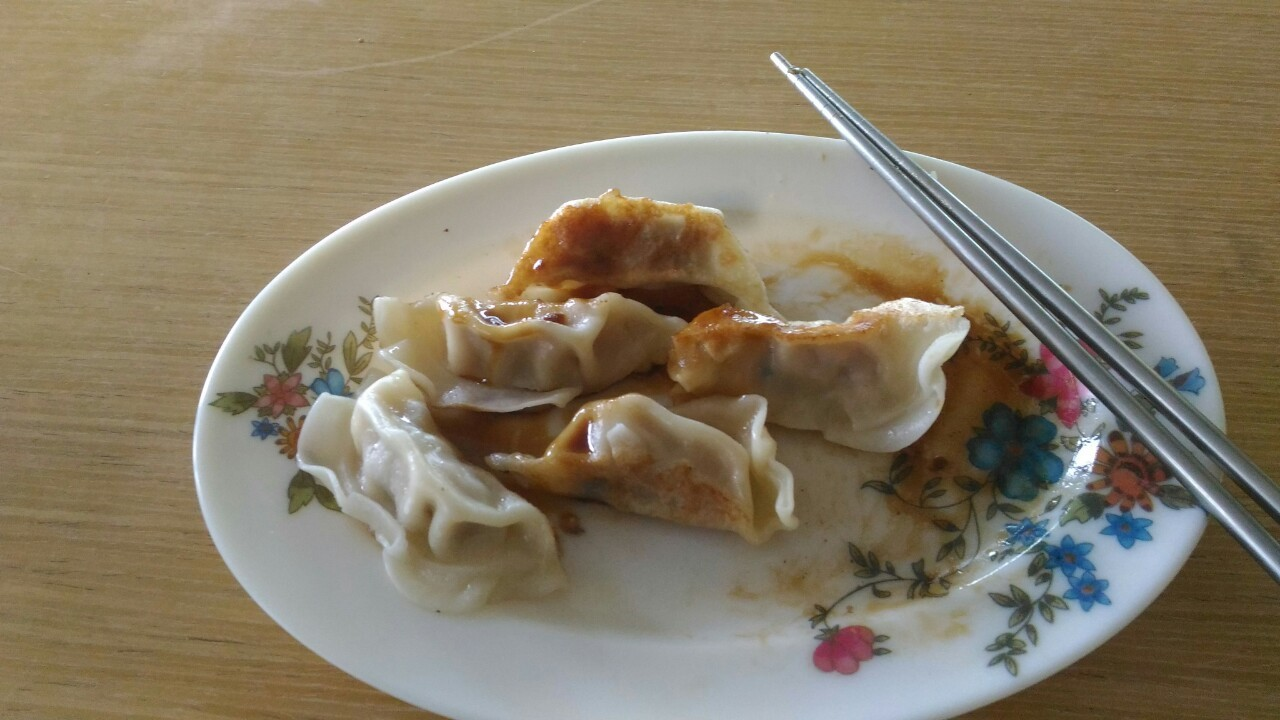fried_dumplings: (283, 182, 974, 619)
